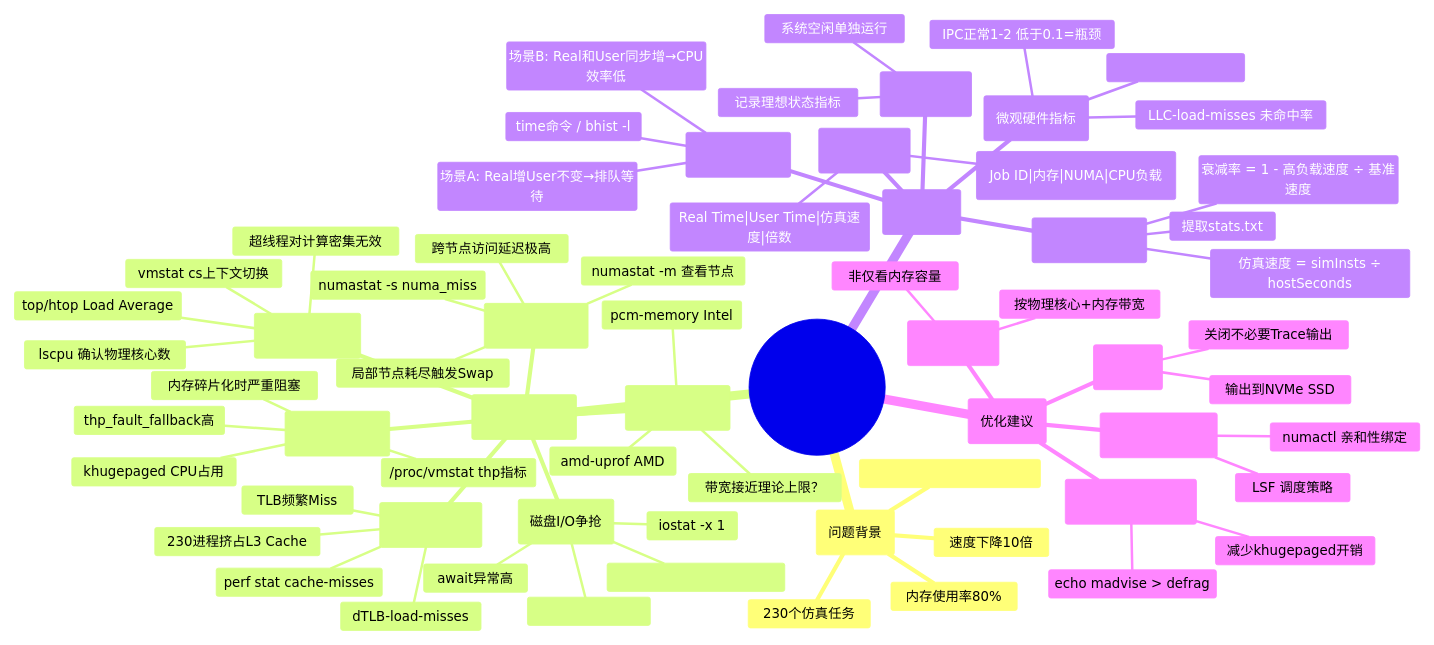
This 1434x645 diagram has some shape labels left out. The shapes that lost their labels are listed below. From the top down, each one's box as (x1, y1, x2, y2) in pixels, then its label:
(1106, 53, 1245, 82): perf stat -p PID -d
(879, 71, 972, 117): 建立基准线
(685, 132, 791, 177): 宏观时间评估
(818, 127, 910, 173): 汇总对比表
(882, 189, 961, 234): 评估方法
(1031, 217, 1147, 263): Gem5内部指标
(254, 312, 361, 358): CPU核心超载
(483, 303, 588, 348): NUMA不平衡
(907, 320, 999, 366): 限制并发数
(748, 318, 885, 455): Gem5 高并发仿真 性能衰减排查与评估
(1093, 344, 1162, 390): 优化I/O
(471, 394, 576, 439): 六大根因诊断
(625, 385, 730, 430): 内存带宽瓶颈
(284, 410, 390, 456): THP系统停顿
(1099, 412, 1217, 458): 绑定NUMA节点
(859, 459, 1040, 488): HPC环境高并发常见现象
(1064, 478, 1196, 524): 关闭THP碎片整理
(379, 502, 482, 547): LLC缓存争抢
(606, 562, 785, 591): Trace/Log写入打满IOPS
(527, 596, 650, 625): %util接近100%
